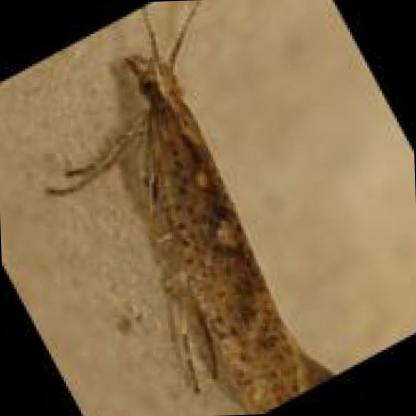plutella: (36, 1, 338, 412)
